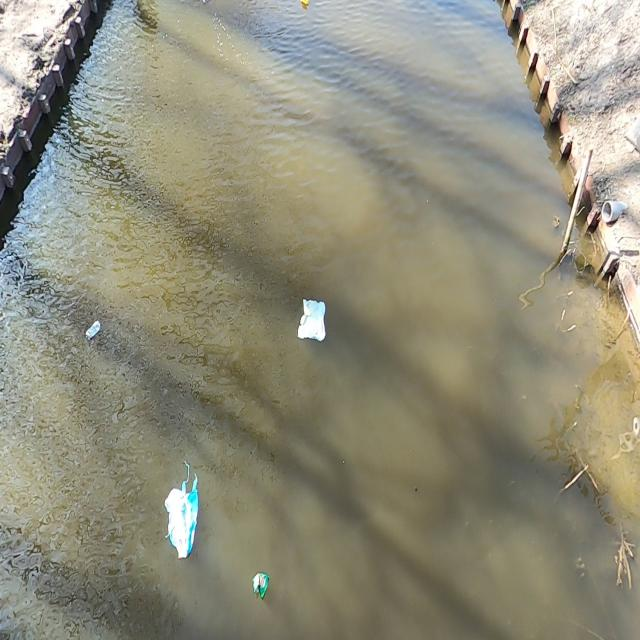Bouteille plastique: (83, 319, 102, 347)
Sac plastique: (162, 469, 200, 561)
